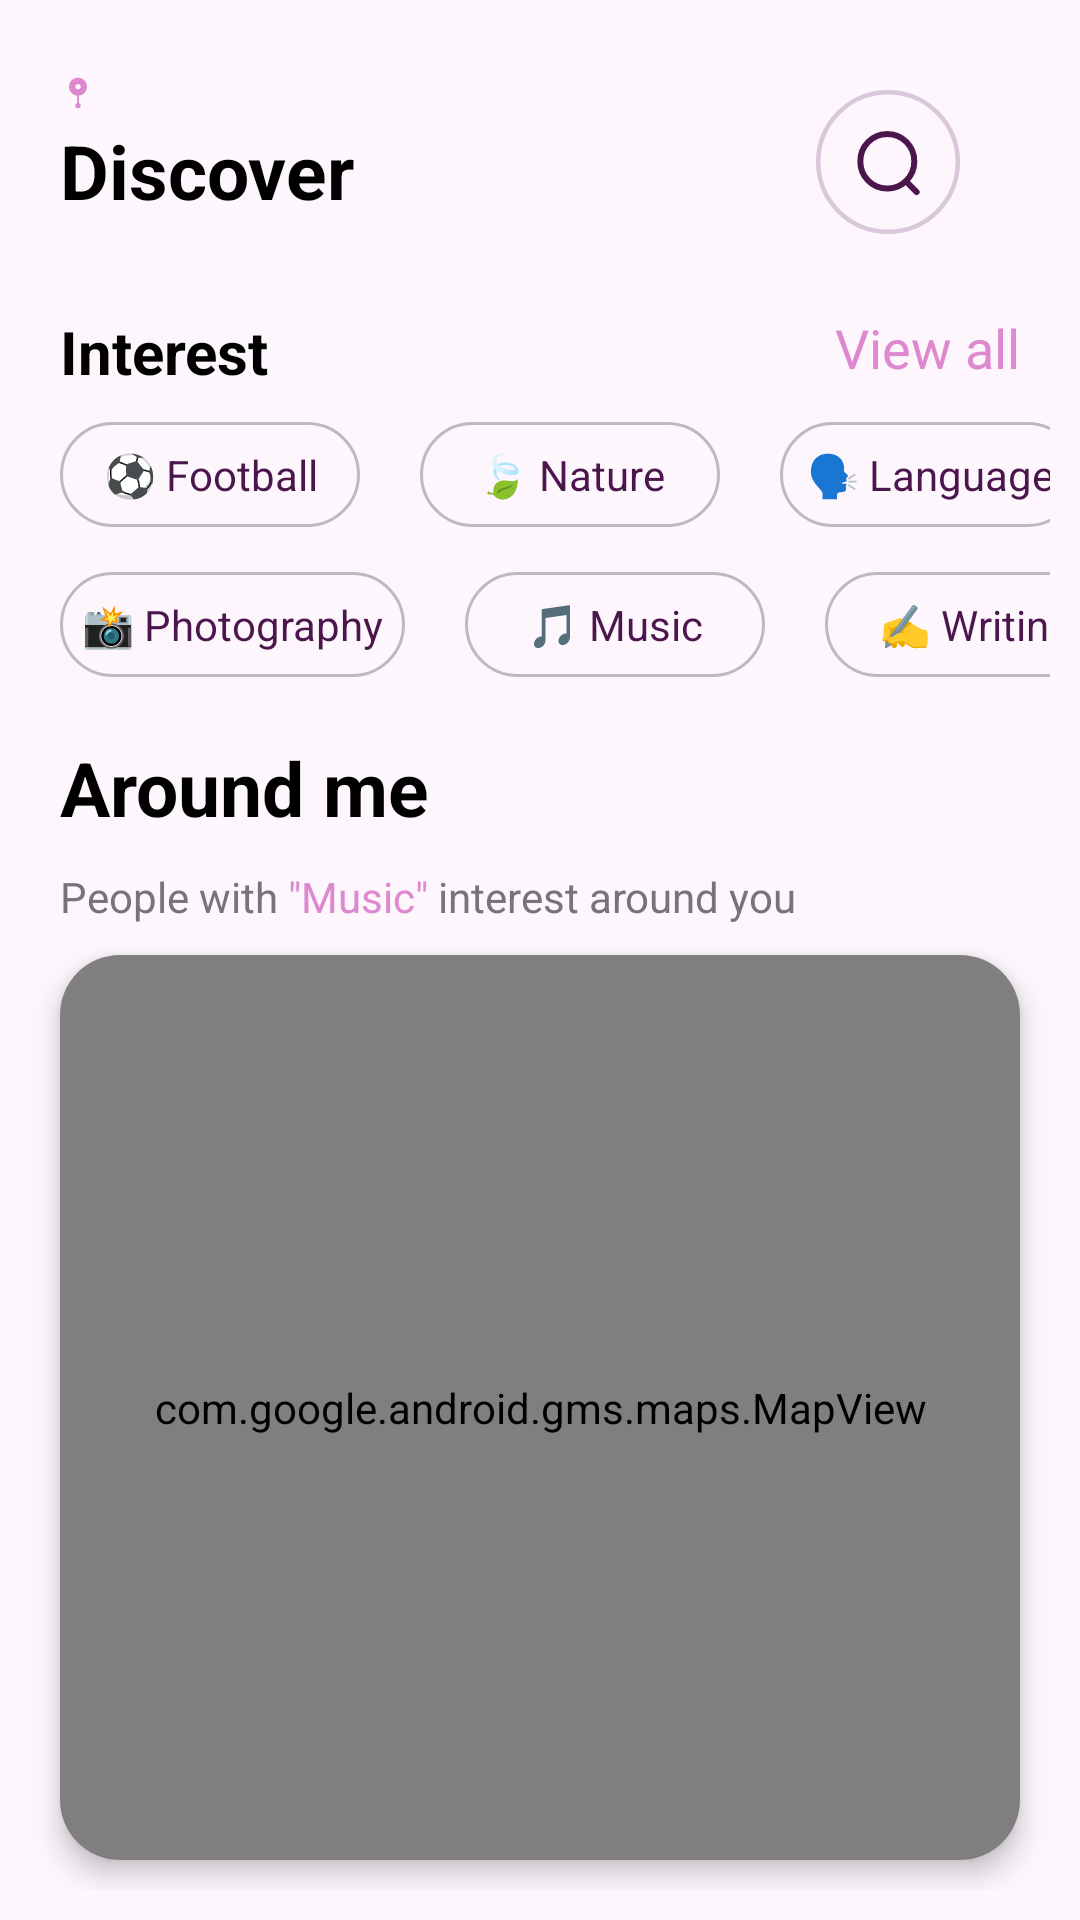

Locate icon controls on the screen. Image size 1080 x 1920, boxes as (x1, y1, x2, y2).
locatin point: (69, 77, 87, 109)
